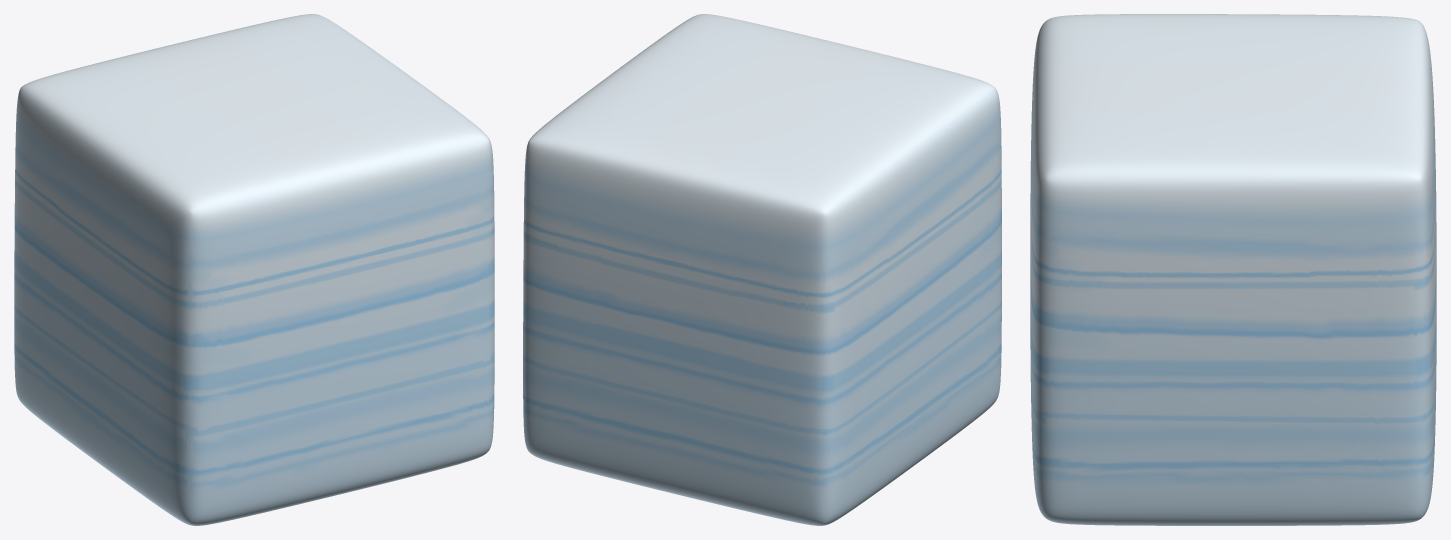
The model's file is glacier.obj.
3 renders of one model, left to right at view 1: azimuth 30°, elevation 25°; view 2: azimuth 150°, elevation 25°; view 3: azimuth 270°, elevation 25°, orthographic. The views are drawn at different scales.
Parts seen in each view (by area): view 1: Cube.009; view 2: Cube.009; view 3: Cube.009.
Part boxes in pixels (box(x1,y1,x2,y2)): Cube.009: box(14, 14, 494, 525); Cube.009: box(523, 14, 1001, 525); Cube.009: box(1030, 14, 1436, 525).
Bounding box in the file's own units: 1.98 × 1.98 × 1.98.
1 material, 1 textured.
